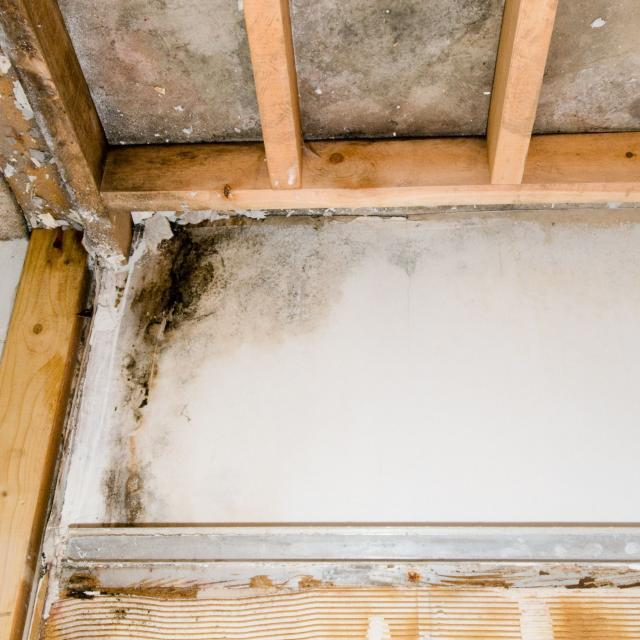wall_mold: (108, 209, 245, 526), (65, 570, 99, 600)
